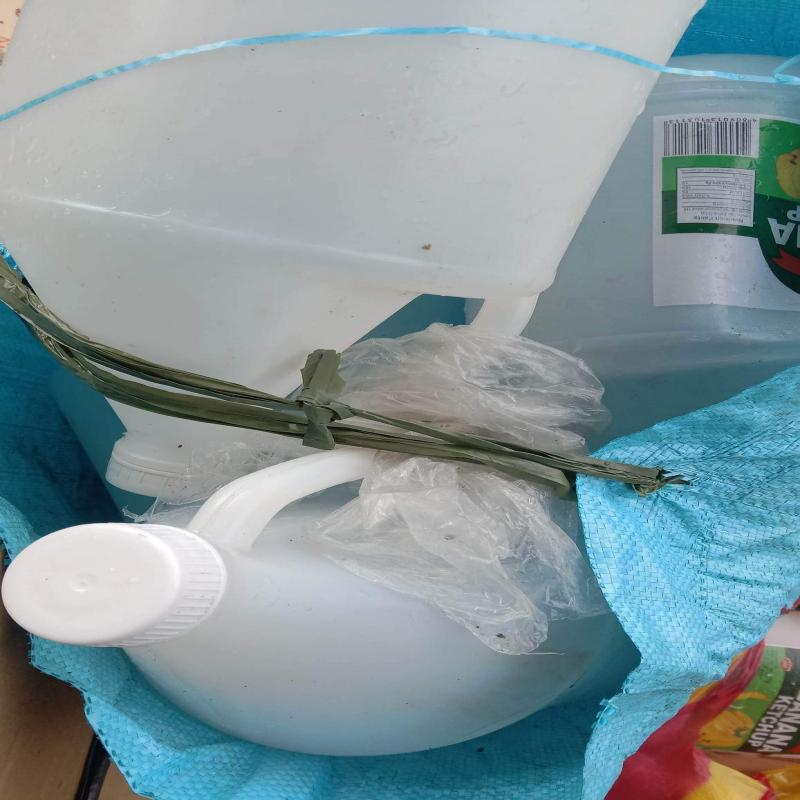plastic bag: (313, 452, 611, 655), (337, 322, 613, 458)
plastic bottle: (0, 448, 641, 758), (105, 404, 275, 501)
plastic container: (0, 0, 708, 399), (522, 55, 800, 427)
